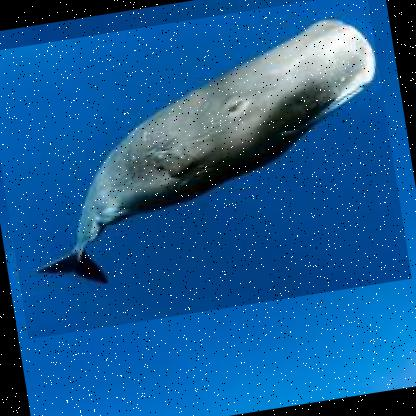sperm_whale: (0, 0, 412, 340)
